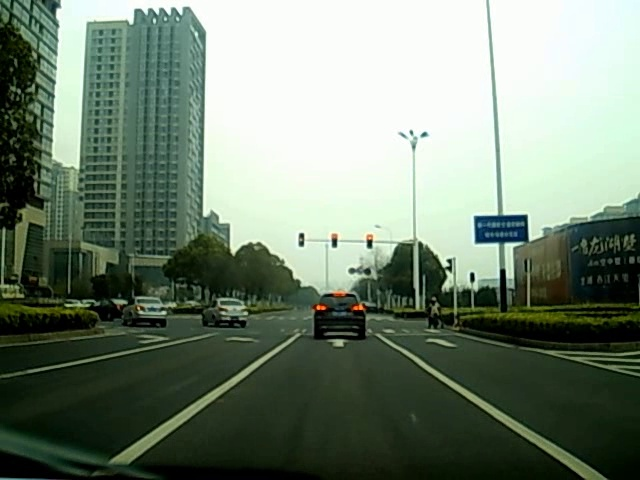Traffic_Light_stop: (366, 234, 373, 250), (331, 234, 338, 249)
